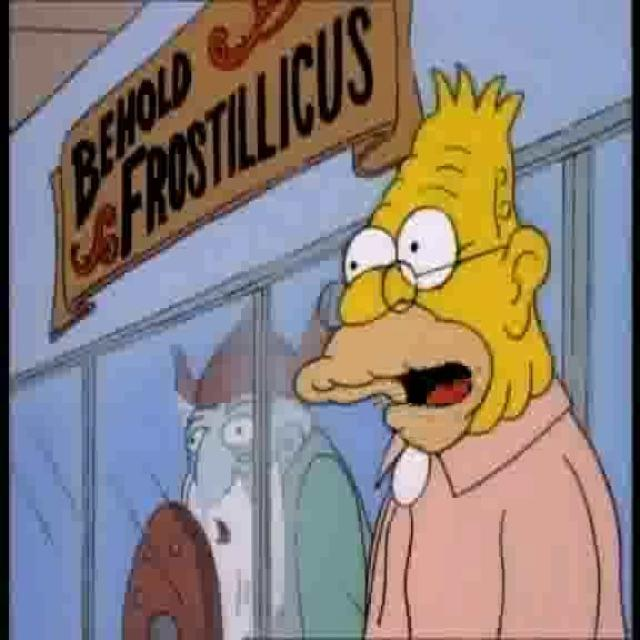Abraham Grampa Simpson: (292, 62, 559, 457)
